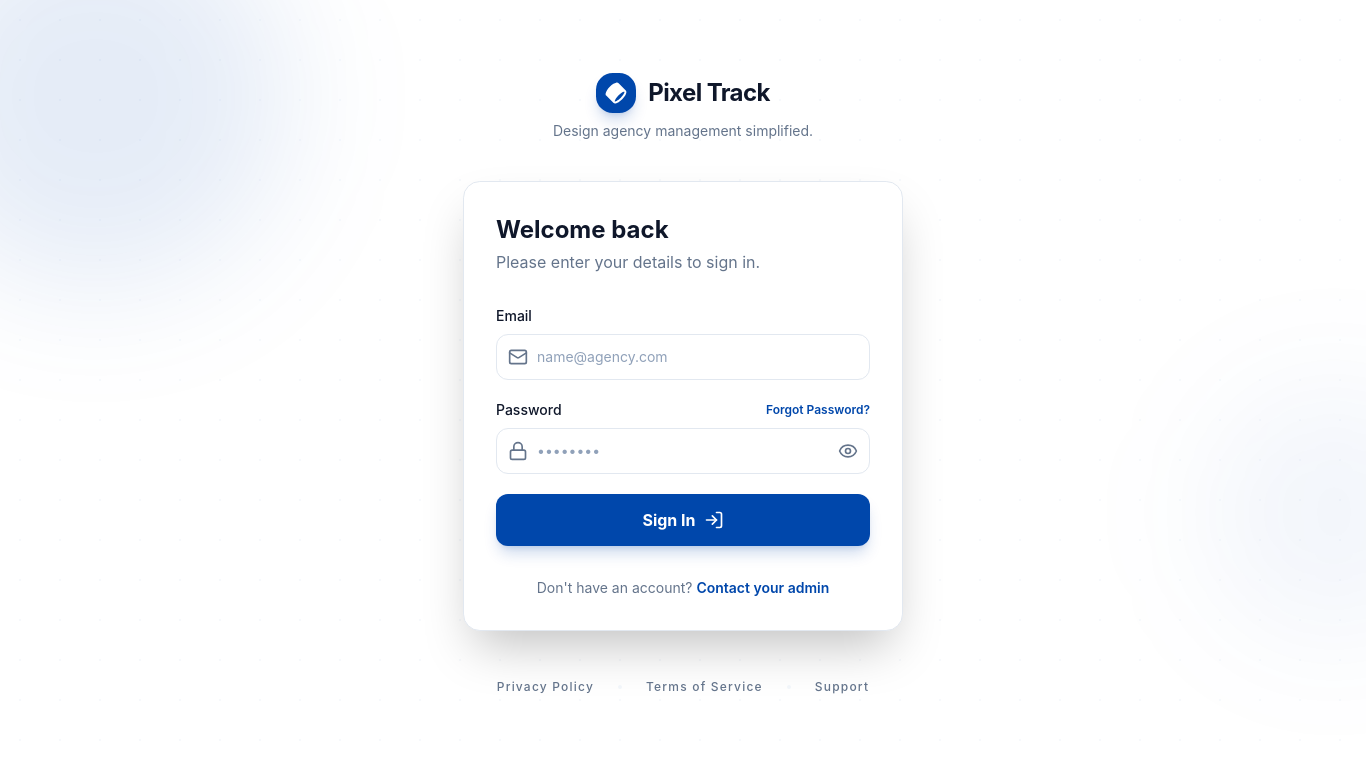
Test: LoginPage › shows an email format error when email is invalid
Type "notanemail" into the field labelled "Email".
click(683, 357); type("notanemail")  # box x1=496 y1=334 x2=870 y2=380
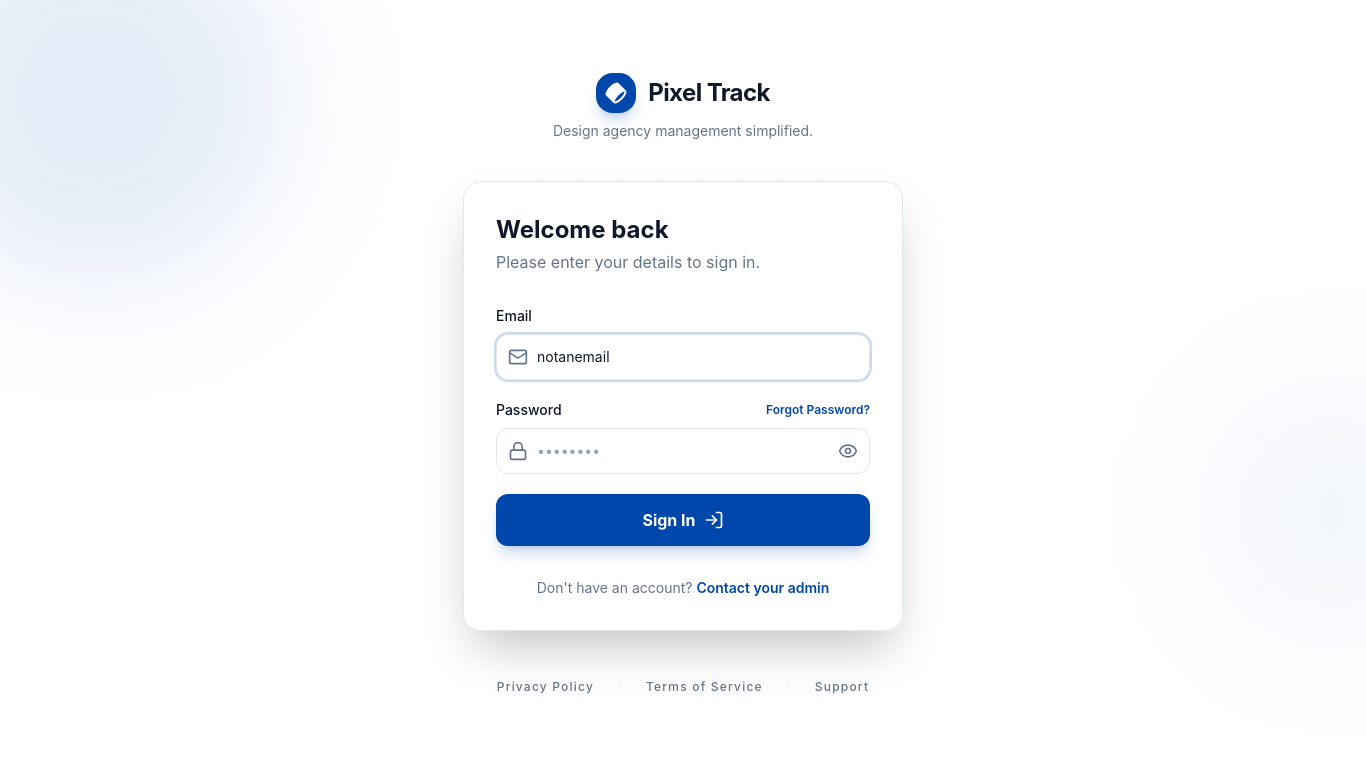
Click the button "Sign In".
click(683, 520)  # box x1=496 y1=494 x2=870 y2=546
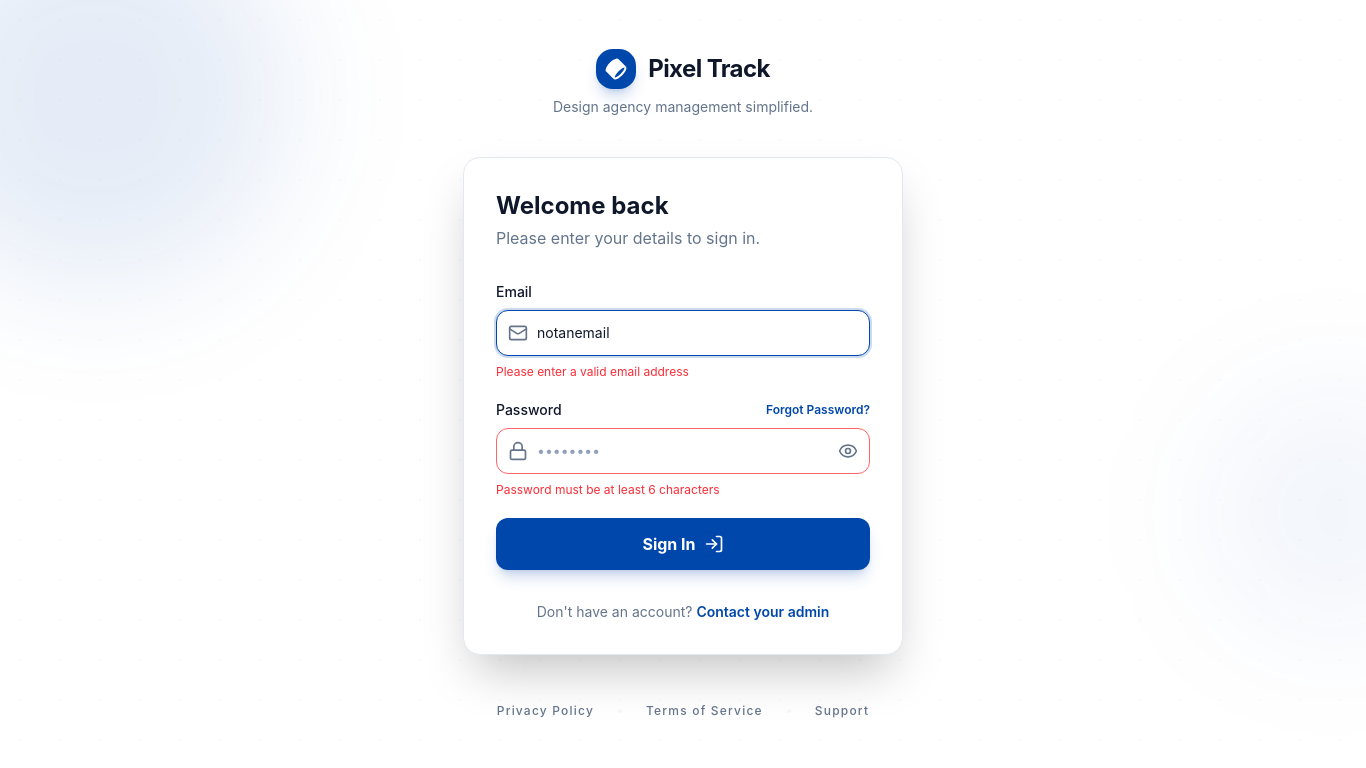
Now the text "Please enter a valid email address" is shown, box x1=496 y1=364 x2=689 y2=379
